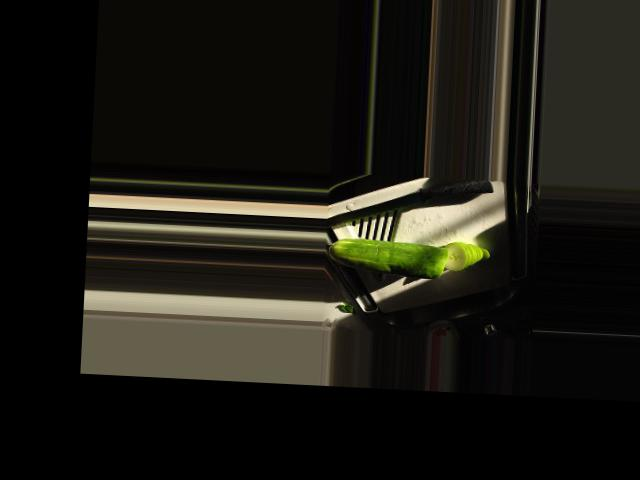cucumber: (327, 236, 450, 279)
